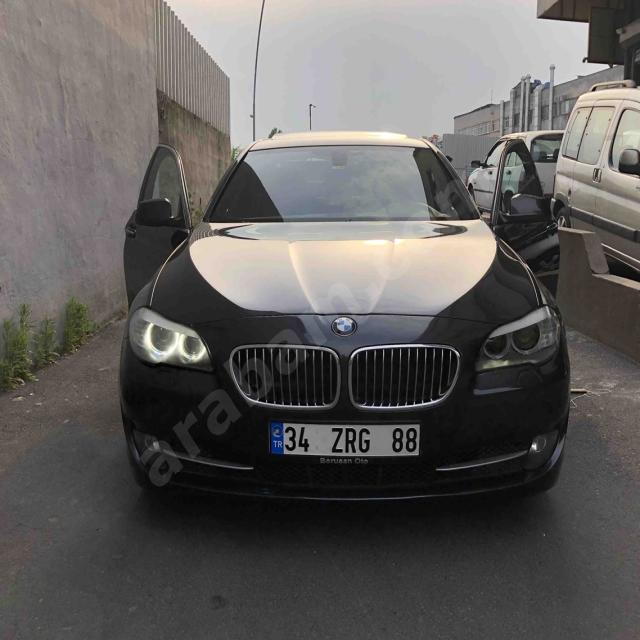license_plate: (268, 421, 421, 457)
